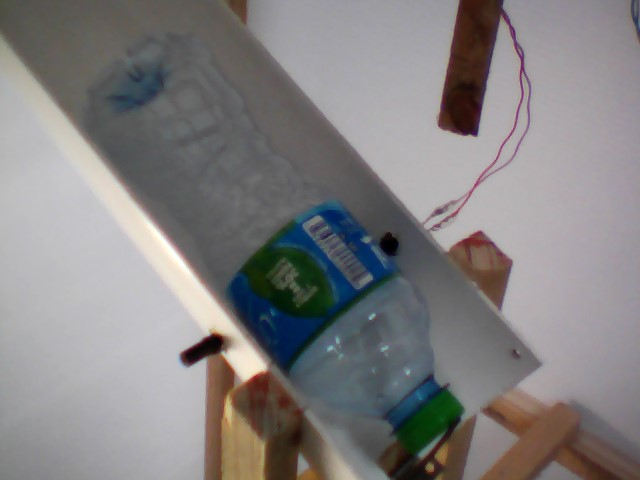plastico: (72, 27, 483, 459)
